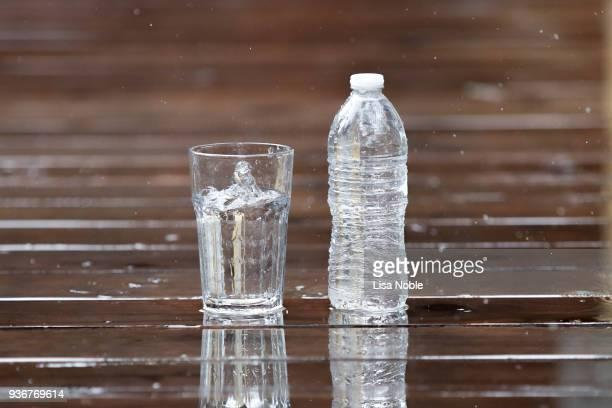bottle: (339, 63, 395, 321)
